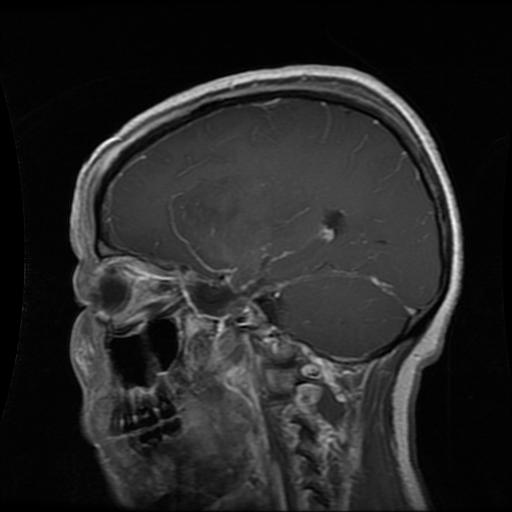Gliomia_tumour: (167, 177, 272, 282)
